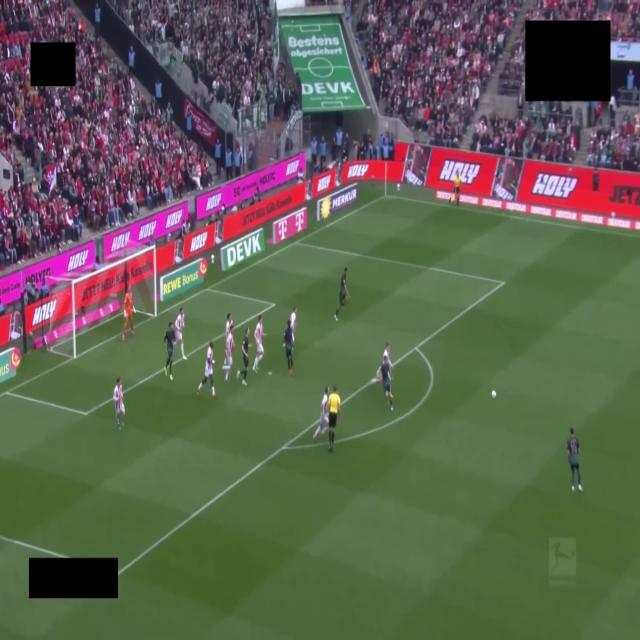ball: (492, 391, 496, 398)
player: (198, 342, 216, 398), (567, 427, 582, 491), (334, 267, 350, 321), (313, 387, 329, 441), (252, 314, 266, 372), (237, 327, 249, 385), (381, 357, 393, 411), (164, 322, 175, 380), (223, 324, 234, 382), (113, 377, 125, 430), (283, 320, 294, 376), (123, 288, 134, 341), (175, 308, 186, 359), (382, 343, 392, 371), (225, 313, 233, 342), (290, 307, 296, 342)
referee: (328, 386, 340, 452)
